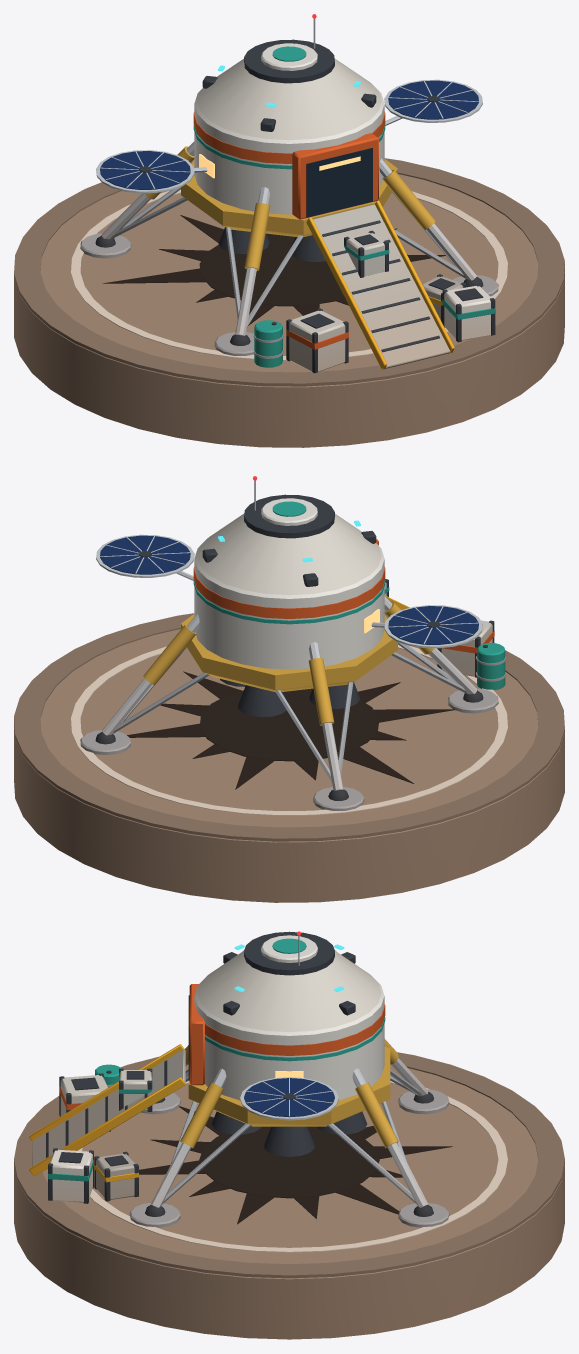
File: supply_lander.glb
The picture shows the model from 3 angles, top to bottom: view 1: azimuth 30°, elevation 25°; view 2: azimuth 150°, elevation 25°; view 3: azimuth 270°, elevation 25°; orthographic projection.
Parts seen in each view (by area): view 1: supply_lander; view 2: supply_lander; view 3: supply_lander.
Part boxes in pixels (left/top/right/bottom): supply_lander: left=14, top=14, right=564, bottom=447; supply_lander: left=14, top=476, right=564, bottom=902; supply_lander: left=14, top=931, right=564, bottom=1339.
Size of the model in its own units: 5.8 by 3.56 by 5.8.
